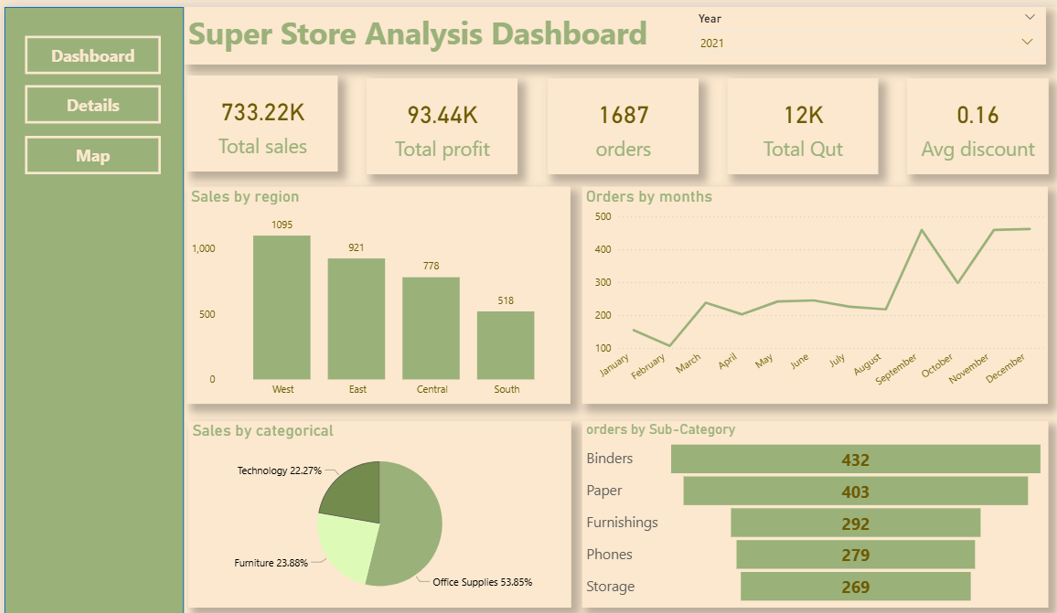

Layout of this report page (visuals, bound fields, positions):
{"tool":"powerbi","page":{"name":"Dashboard","canvas":[1280,850],"ordinal":0},"visuals":[{"type":"textbox","box":[218.3,0,1046.7,70],"z":0},{"type":"pieChart","title":"Sales by categorical","fields":{"Category":["Orders.Category"],"Y":["measure.orders"]},"box":[223.8,502,465,226.7],"z":0,"group":"g1"},{"type":"shape","box":[0,0,218,850],"z":1000},{"type":"columnChart","title":"Sales by region","fields":{"Category":["Orders.Region"],"Y":["CountNonNull(Orders.Order ID)"]},"box":[221.7,218.4,466,264],"z":1000,"group":"g1"},{"type":"slicer","fields":{"Values":["Orders.Order Date.Variation.Date Hierarchy.Year","Orders.Order Date.Variation.Date Hierarchy.Quarter","Orders.Order Date.Variation.Date Hierarchy.Month","Orders.Order Date.Variation.Date Hierarchy.Day"]},"box":[830,0,435,70],"z":2000},{"type":"lineChart","title":"Orders by months","fields":{"Y":["CountNonNull(Orders.Order ID)"],"Category":["Orders.Order Date.Variation.Date Hierarchy.Month"]},"box":[702.1,218.4,566.3,264],"z":2000,"group":"g1"},{"type":"actionButton","box":[25,35,165,46.7],"z":3000},{"type":"card","fields":{"Values":["measure.Total sales"]},"box":[222.3,82.8,183.3,116.7],"z":3000,"group":"g1"},{"type":"card","fields":{"Values":["measure.Avg discount"]},"box":[1096.7,86.7,171.7,116.7],"z":4000},{"type":"card","fields":{"Values":["measure.Total Qut"]},"box":[878.1,86.7,183.3,116.7],"z":5000},{"type":"card","fields":{"Values":["measure.orders"]},"box":[659.4,86.7,183.3,116.7],"z":6000},{"type":"card","fields":{"Values":["measure.Total profit"]},"box":[440.8,86.7,183.3,116.7],"z":7000},{"type":"funnel","fields":{"Category":["Orders.Sub-Category"],"Y":["measure.orders"]},"box":[702.1,502,566.7,226.7],"z":7000,"group":"g1"},{"type":"actionButton","box":[25,95,165,46.7],"z":8000},{"type":"actionButton","box":[25,156.7,165,46.7],"z":9000},{"type":"group","id":"g1","title":"Group 1","box":[221.7,82.8,1047.1,645.9],"z":10000}]}

Visuals, with their boxes on the page's 1280x850 design canvas (x1, y1, x2, y2). These are canvas units, not pixel positions in the 1057x613 screenshot, which may show the page scaled, cropped or inside an application window:
textbox: <bbox>218, 0, 1265, 70</bbox>
"Sales by categorical" pieChart: <bbox>224, 502, 689, 729</bbox>
shape: <bbox>0, 0, 218, 850</bbox>
"Sales by region" columnChart: <bbox>222, 218, 688, 482</bbox>
slicer - Orders.Order Date.Variation.Date Hierarchy.Year x Orders.Order Date.Variation.Date Hierarchy.Quarter: <bbox>830, 0, 1265, 70</bbox>
"Orders by months" lineChart: <bbox>702, 218, 1268, 482</bbox>
actionButton: <bbox>25, 35, 190, 82</bbox>
card - measure.Total sales: <bbox>222, 83, 406, 200</bbox>
card - measure.Avg discount: <bbox>1097, 87, 1268, 203</bbox>
card - measure.Total Qut: <bbox>878, 87, 1061, 203</bbox>
card - measure.orders: <bbox>659, 87, 843, 203</bbox>
card - measure.Total profit: <bbox>441, 87, 624, 203</bbox>
funnel - Orders.Sub-Category x measure.orders: <bbox>702, 502, 1269, 729</bbox>
actionButton: <bbox>25, 95, 190, 142</bbox>
actionButton: <bbox>25, 157, 190, 203</bbox>
"Group 1" group: <bbox>222, 83, 1269, 729</bbox>
